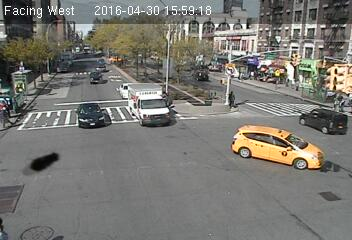neg: (26, 139, 61, 187), (218, 183, 252, 229), (169, 34, 197, 71), (306, 178, 331, 212), (79, 181, 103, 214), (143, 85, 166, 117), (284, 49, 307, 79), (246, 134, 268, 163), (16, 61, 37, 90), (139, 160, 159, 187), (109, 29, 128, 54), (59, 38, 77, 62), (75, 100, 91, 122), (319, 105, 335, 126)
pos: (226, 90, 239, 107)
